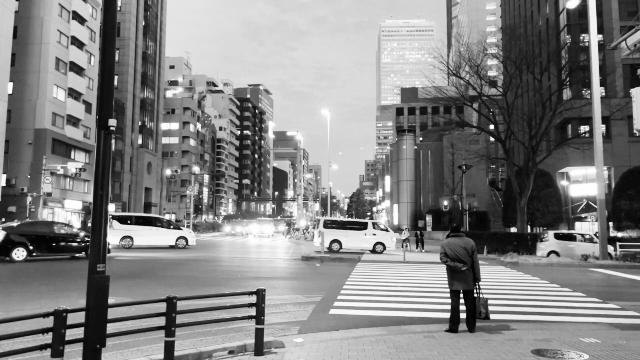berdiri: (438, 222, 494, 332)
